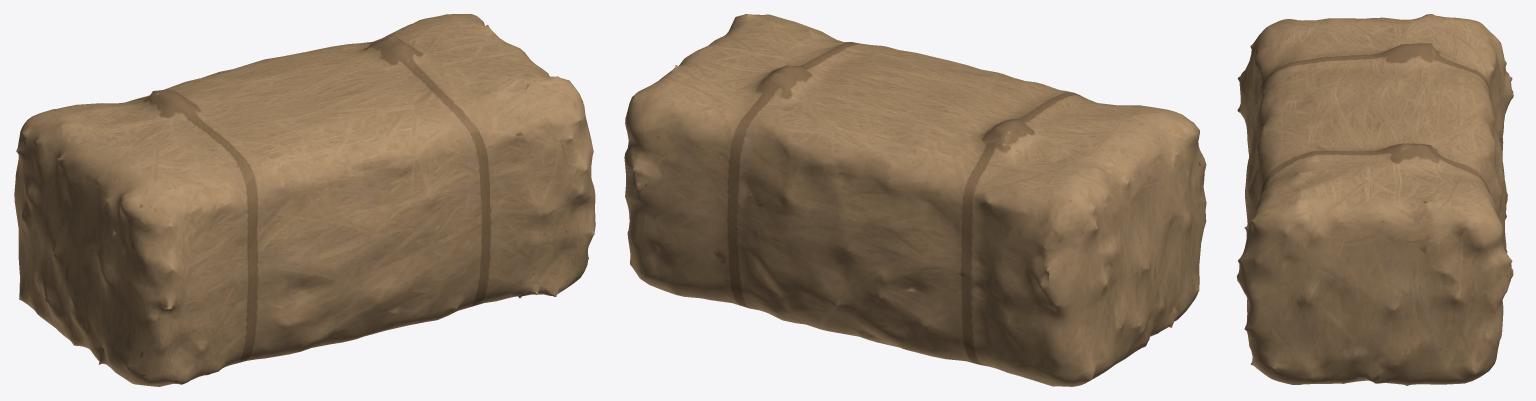
Rendered from HayBale.glb.
The picture shows the model from 3 angles, left to right: view 1: azimuth 30°, elevation 25°; view 2: azimuth 150°, elevation 25°; view 3: azimuth 270°, elevation 25°; orthographic projection. The views are drawn at different scales.
Visible parts, largest first — view 1: HayBale; view 2: HayBale; view 3: HayBale.
Boxes of the visible parts, bbox=[...] form: HayBale: bbox=[14, 14, 595, 386]; HayBale: bbox=[624, 14, 1206, 386]; HayBale: bbox=[1236, 14, 1513, 385].
Bounding box in the file's own units: 1.14 × 0.4952 × 0.648.
Materials: 1 (1 with a texture image).
